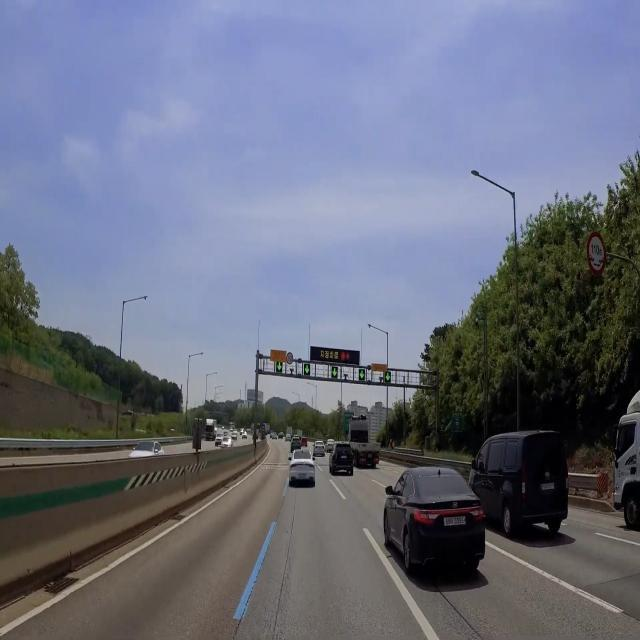car: (442, 514, 468, 527), (538, 479, 558, 494), (363, 452, 376, 464), (297, 472, 309, 482), (339, 453, 348, 461)
